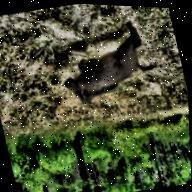boar: (47, 9, 164, 118)
